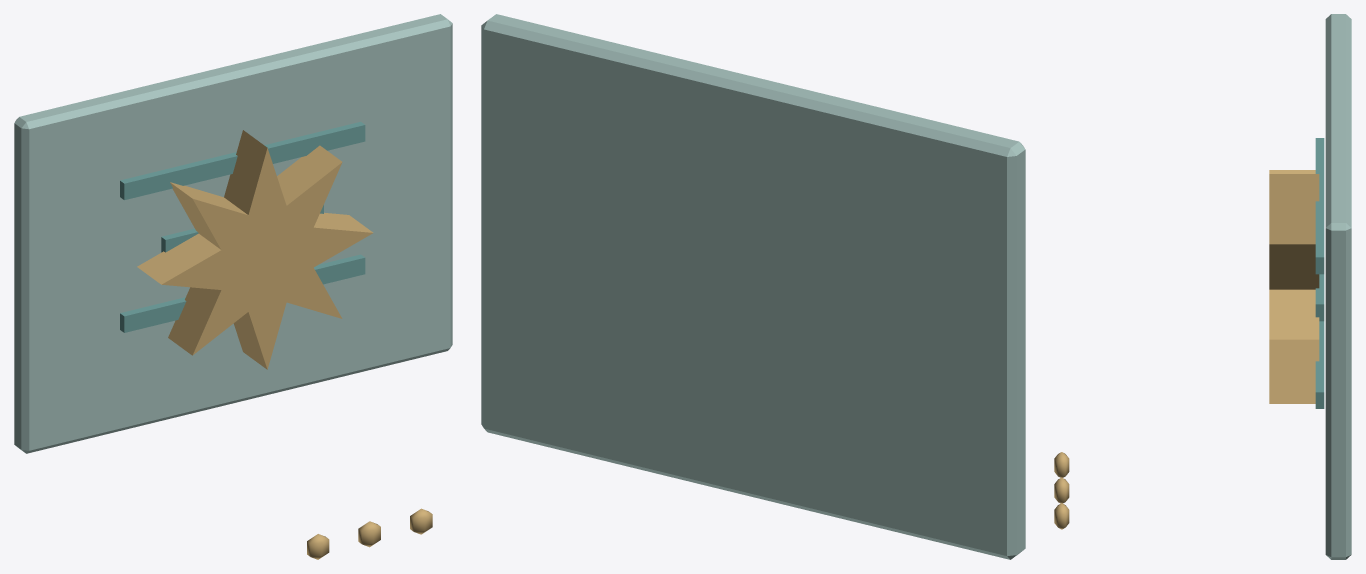
The picture shows the model from 3 angles, left to right: view 1: azimuth 30°, elevation 25°; view 2: azimuth 150°, elevation 25°; view 3: azimuth 270°, elevation 25°; orthographic projection. The views are drawn at different scales.
Parts seen in each view (by area): view 1: st12; view 2: st12; view 3: st12.
Boxes of the visible parts, x1,y1,x2,y2 form: st12: (14,14,452,559); st12: (481,14,1025,559); st12: (1054,14,1351,559).
Size of the model in its own units: 0.2924 by 0.246 by 0.1719.
